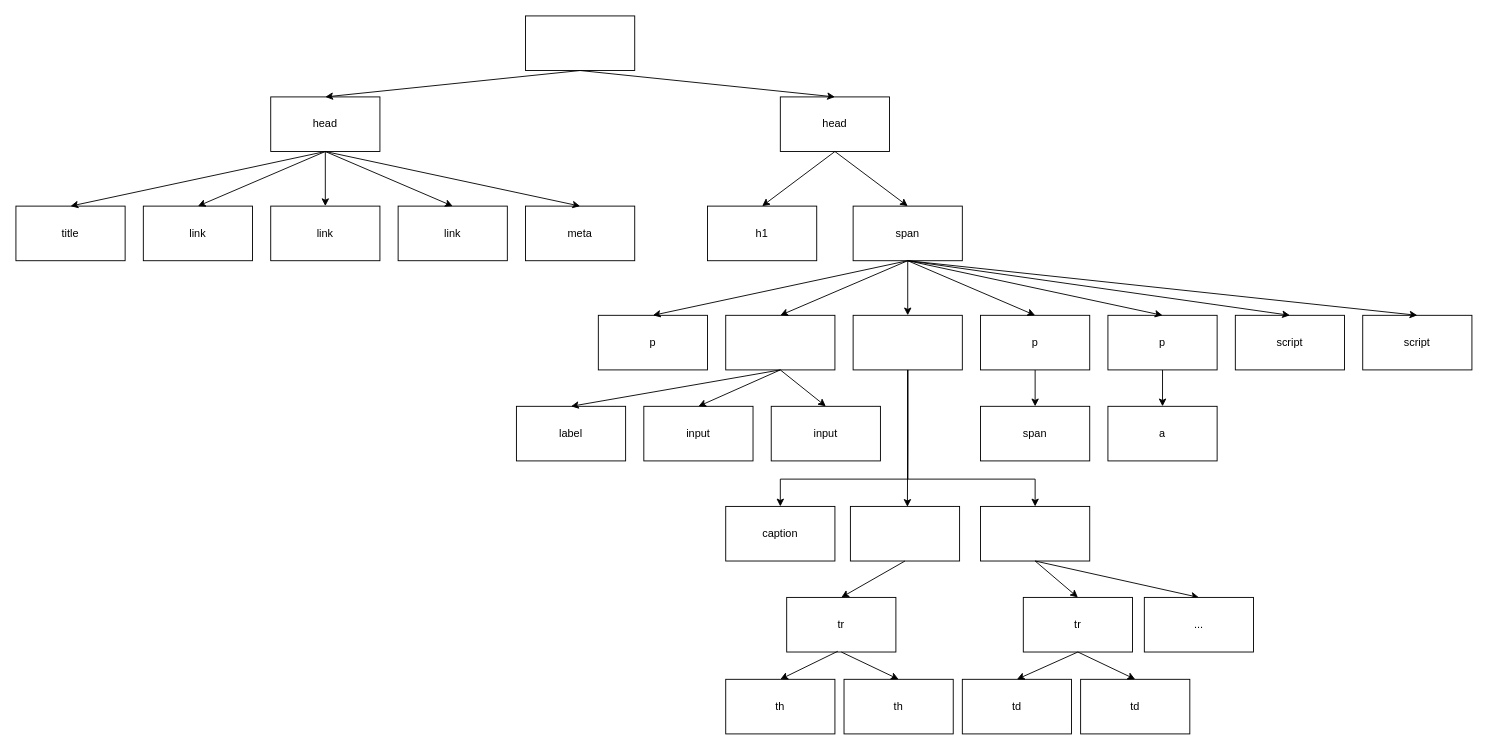
The diagram is 1488 pixels wide and 750 high, and some of its shapes have lost their labels. Each missing label, with the centre of its shape:
form: the point at 780,342
html: the point at 580,43
table: the point at 907,342
tbody: the point at 1035,533
thead: the point at 904,533
